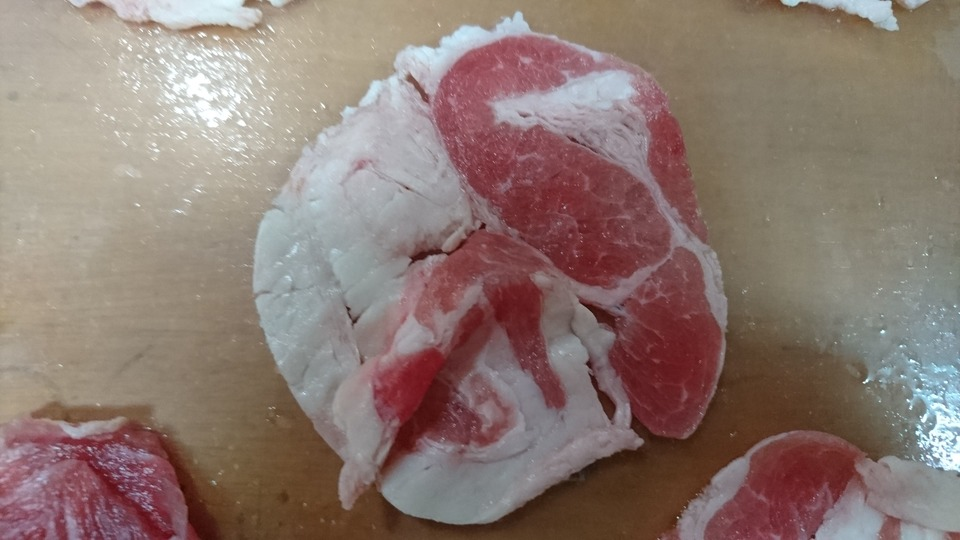restructured meat: (254, 17, 729, 522)
